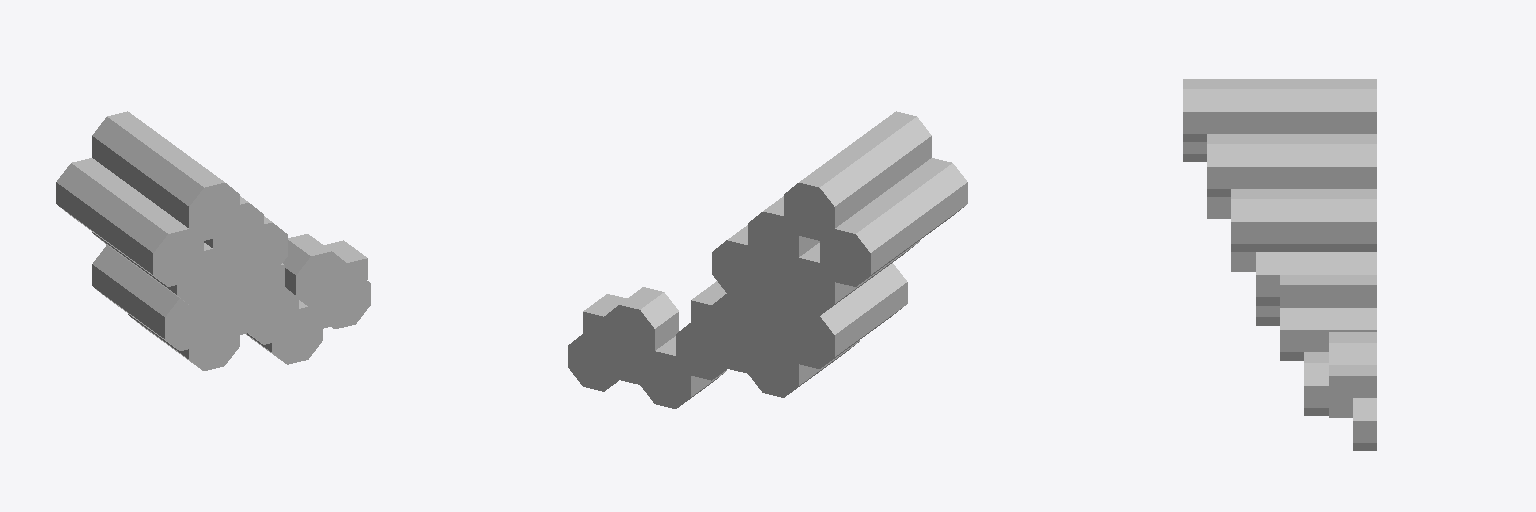
Rendered from qbert_LEVEL1.obj.
3 renders of one model, left to right at view 1: azimuth 30°, elevation 25°; view 2: azimuth 150°, elevation 25°; view 3: azimuth 270°, elevation 25°, orthographic.
Bounding box in the file's own units: 14.36 × 11.66 × 8.